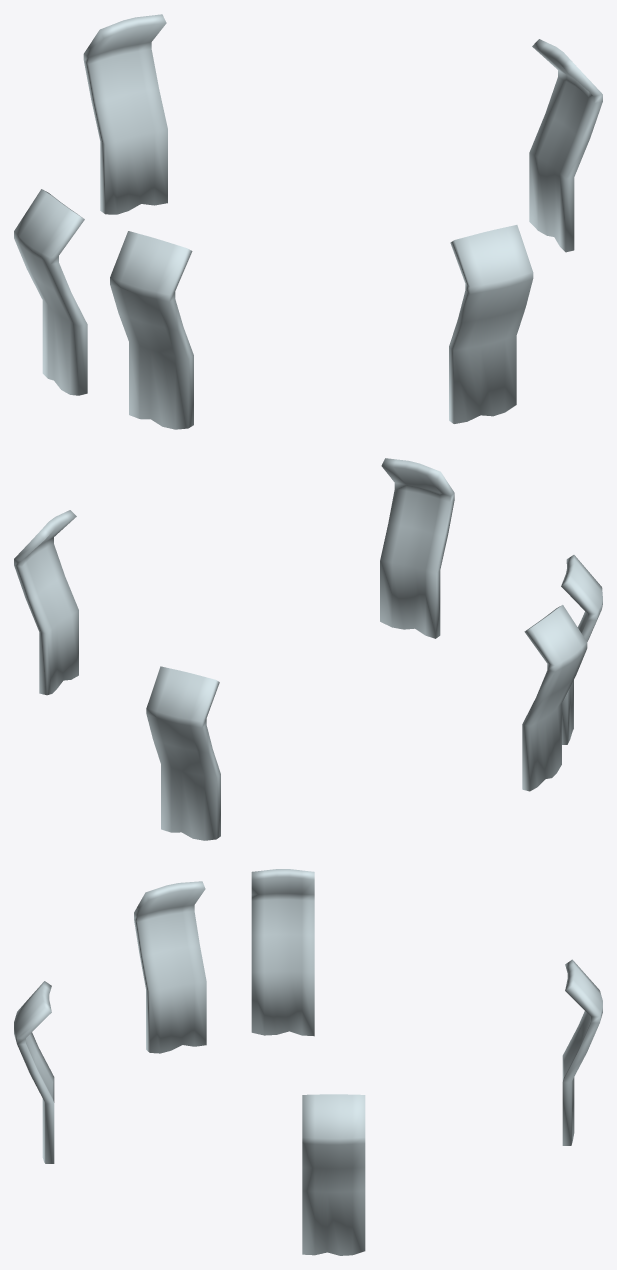
File: rocketTape.fbx
The picture shows the model from 3 angles, top to bottom: view 1: azimuth 30°, elevation 25°; view 2: azimuth 150°, elevation 25°; view 3: azimuth 270°, elevation 25°; orthographic projection. The views are drawn at different scales.
Visible parts, largest first — view 1: Rocket Tape; view 2: Rocket Tape; view 3: Rocket Tape.
Boxes of the visible parts, x1,y1,x2,y2 form: Rocket Tape: (14,14,602,429); Rocket Tape: (14,458,602,840); Rocket Tape: (14,869,602,1255).
Size of the model in its own units: 338 by 102 by 338.
